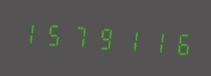five: (42, 15, 66, 53)
nine: (92, 19, 116, 56)
one: (17, 13, 41, 51), (117, 20, 141, 58), (142, 22, 166, 60)
seven: (67, 17, 91, 54)
six: (167, 24, 191, 61)
